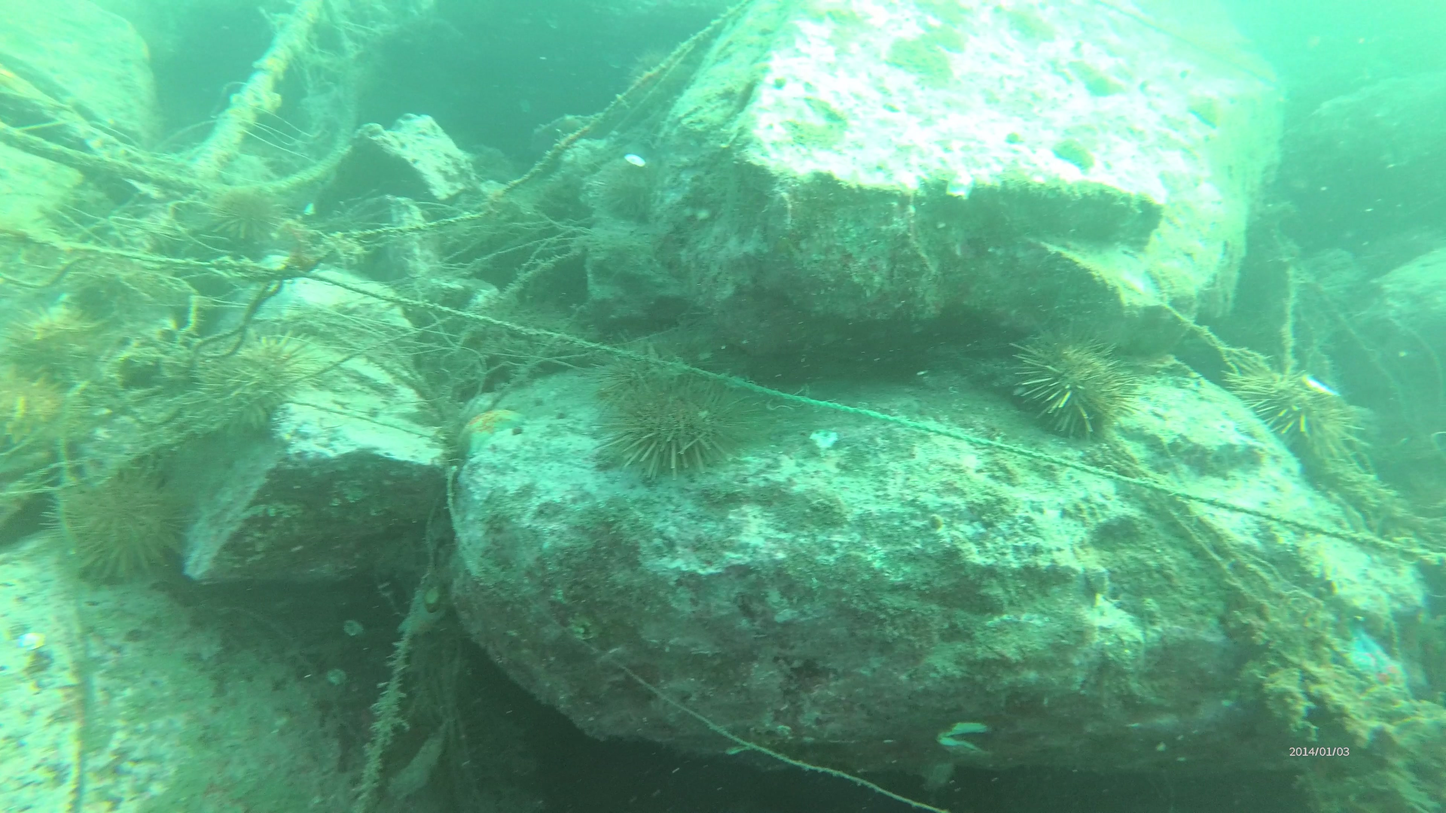holothurian: (1337, 614, 1418, 711), (451, 406, 526, 460)
starfish: (586, 343, 759, 502), (1221, 338, 1374, 478), (58, 455, 198, 589), (1011, 327, 1143, 442), (177, 338, 319, 430), (16, 300, 118, 377), (5, 357, 83, 449), (583, 146, 665, 226), (203, 176, 289, 251), (617, 44, 699, 110)
